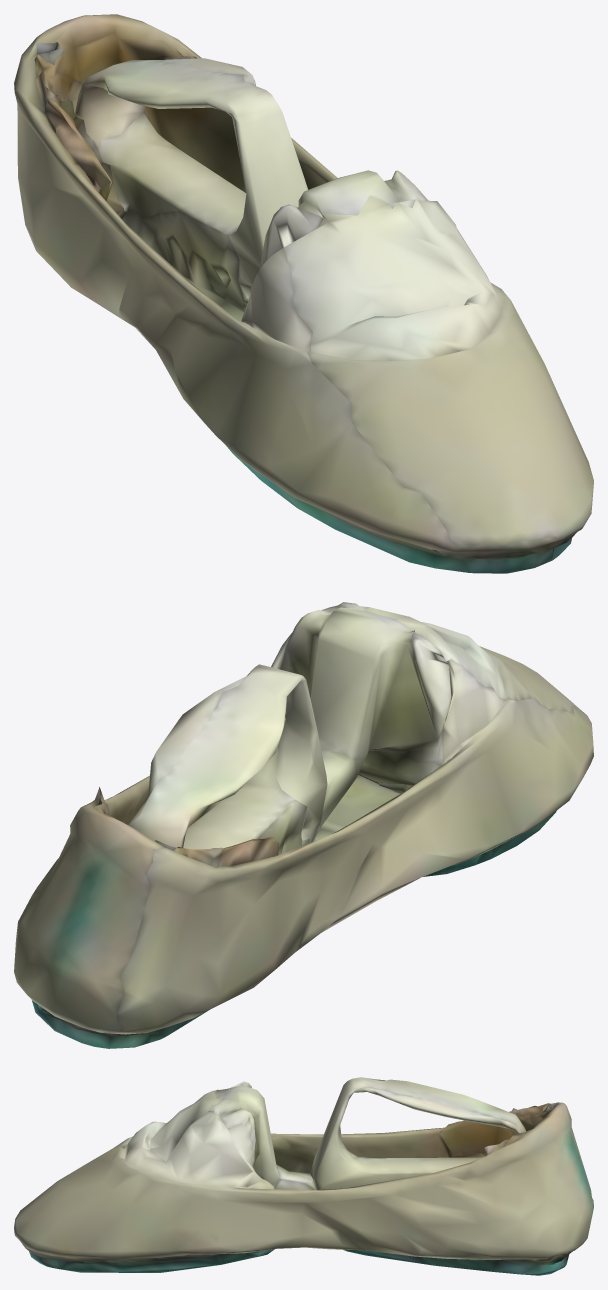
Rendered from Cream_Tieks_Italian_Leather_Ballet_Flats-medium.glb.
3 views of the same model, one above another, from view 1: azimuth 30°, elevation 25°; view 2: azimuth 150°, elevation 25°; view 3: azimuth 270°, elevation 25° (orthographic). The views are drawn at different scales.
Visible parts, largest first — view 1: Cream_Tieks_Italian_Leather_Ballet_Flats; view 2: Cream_Tieks_Italian_Leather_Ballet_Flats; view 3: Cream_Tieks_Italian_Leather_Ballet_Flats.
Part boxes in pixels (x1,y1,x2,y2): Cream_Tieks_Italian_Leather_Ballet_Flats: (14,14,593,573); Cream_Tieks_Italian_Leather_Ballet_Flats: (14,602,593,1048); Cream_Tieks_Italian_Leather_Ballet_Flats: (14,1077,593,1275).
Bounding box in the file's own units: 0.0833 × 0.0793 × 0.2453.
Materials: 1 (1 with a texture image).
